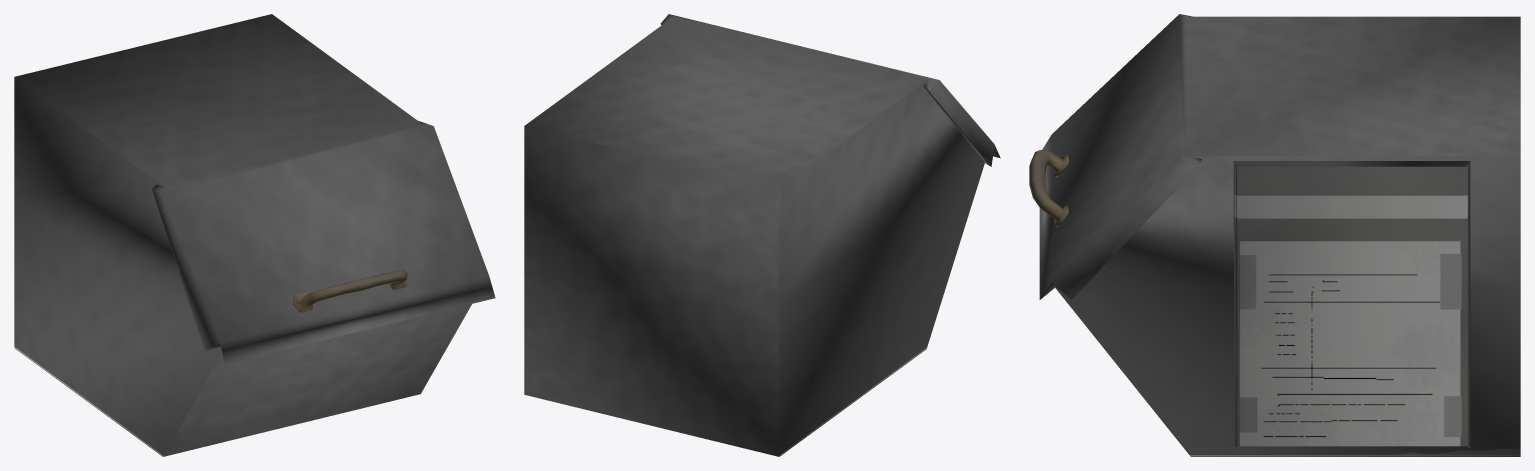
Rendered from LaundryCompartmentSINGLE.obj.
3 renders of one model, left to right at view 1: azimuth 30°, elevation 25°; view 2: azimuth 150°, elevation 25°; view 3: azimuth 270°, elevation 25°, orthographic. The views are drawn at different scales.
Parts seen in each view (by area): view 1: LaundryCompartmentSINGLE.obj; view 2: LaundryCompartmentSINGLE.obj; view 3: LaundryCompartmentSINGLE.obj.
Part boxes in pixels (<box>): LaundryCompartmentSINGLE.obj: <box>14,14,495,456</box>; LaundryCompartmentSINGLE.obj: <box>524,14,1000,456</box>; LaundryCompartmentSINGLE.obj: <box>1029,14,1520,456</box>.
Size of the model in its own units: 4.26 by 3.92 by 5.81.
